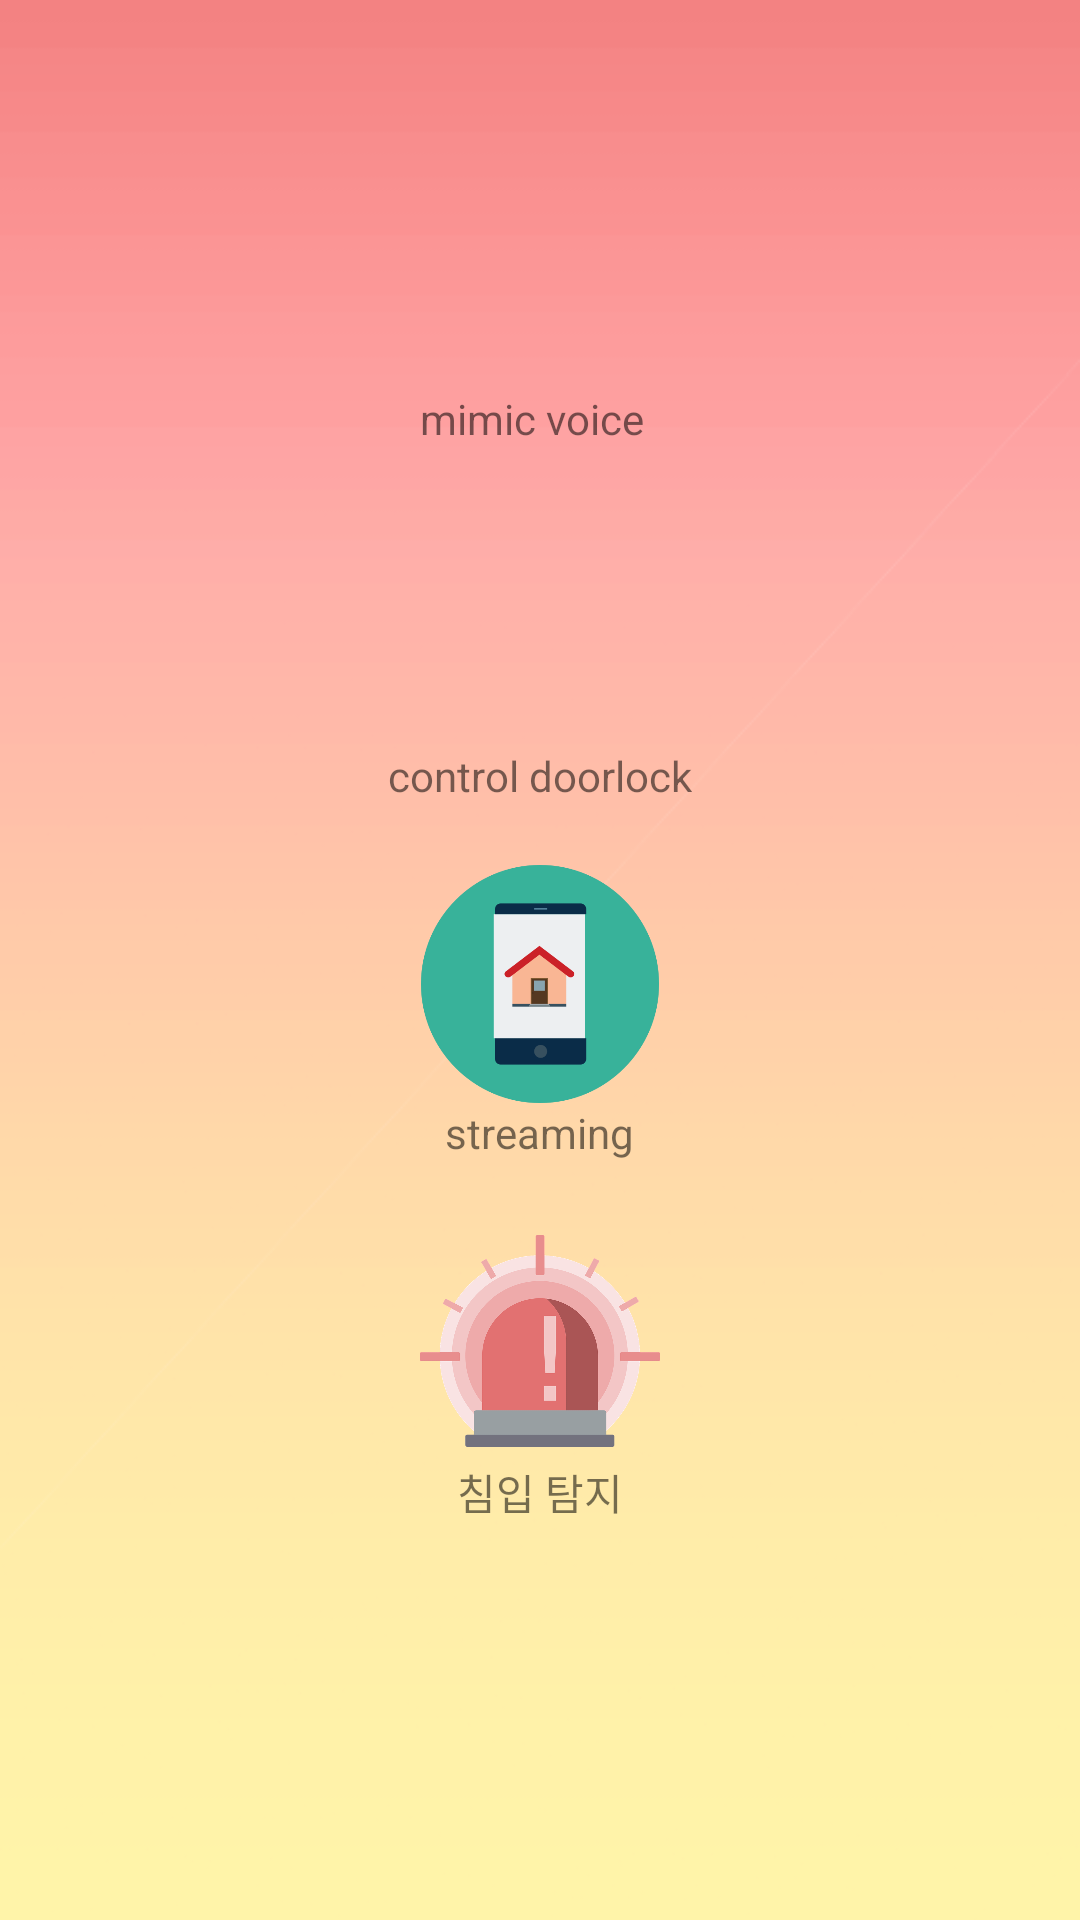

Where to tap for icons on this 1080*1920 app screen, as point (x, y):
siren: point (540, 1341)
